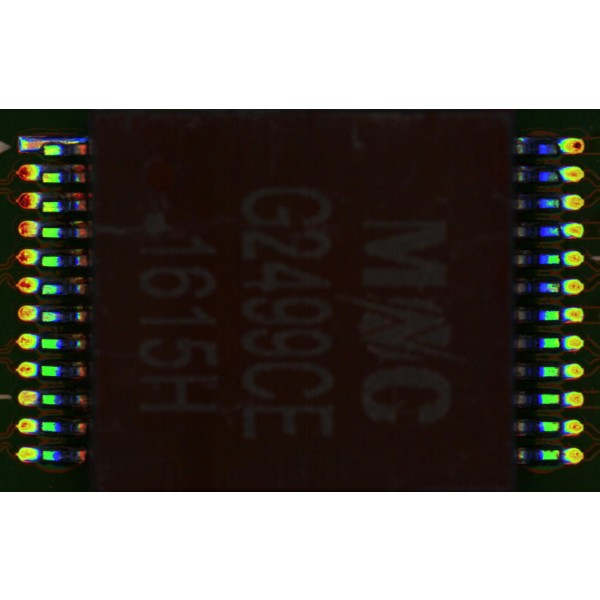Bad_qiaojiao: (42, 139, 87, 144)
